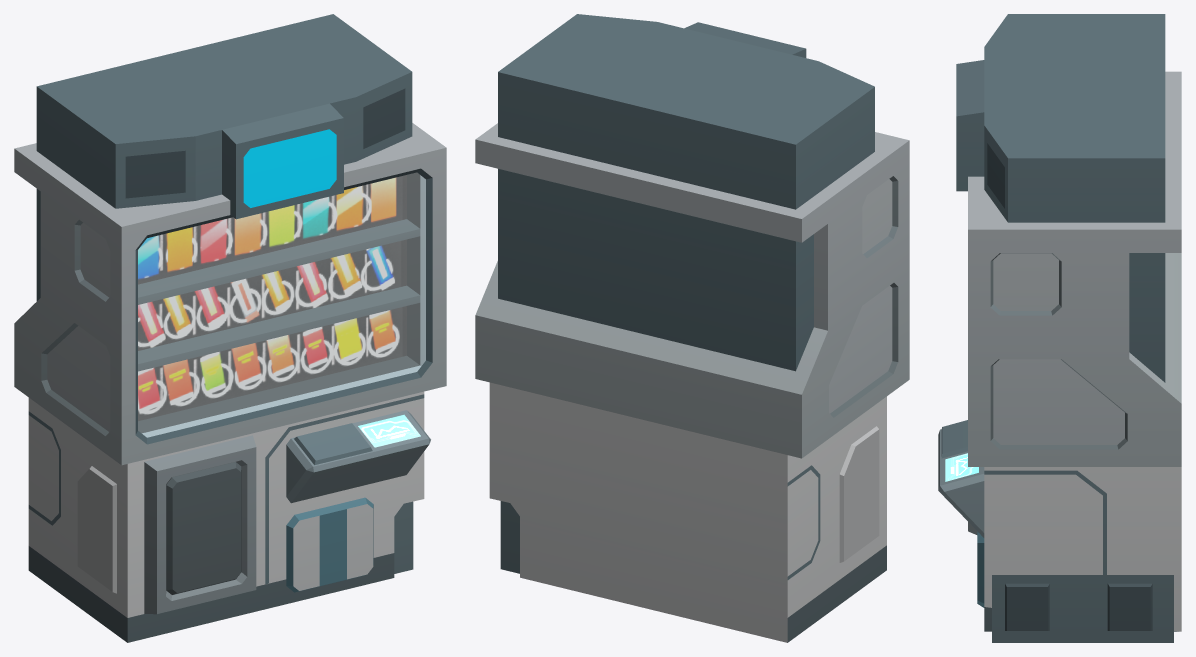
The model's file is Vending_Machine_002.glb.
3 renders of one model, left to right at view 1: azimuth 30°, elevation 25°; view 2: azimuth 150°, elevation 25°; view 3: azimuth 270°, elevation 25°, orthographic.
Parts seen in each view (by area): view 1: Vending_Machine_002; view 2: Vending_Machine_002; view 3: Vending_Machine_002.
Boxes of the visible parts, box(x1,y1,x2,y2) form: Vending_Machine_002: box(14, 14, 446, 642); Vending_Machine_002: box(475, 14, 909, 642); Vending_Machine_002: box(938, 14, 1181, 642).
Bounding box in the file's own units: 1.4 × 2.02 × 0.9106.
Materials: 5 (5 with a texture image).
